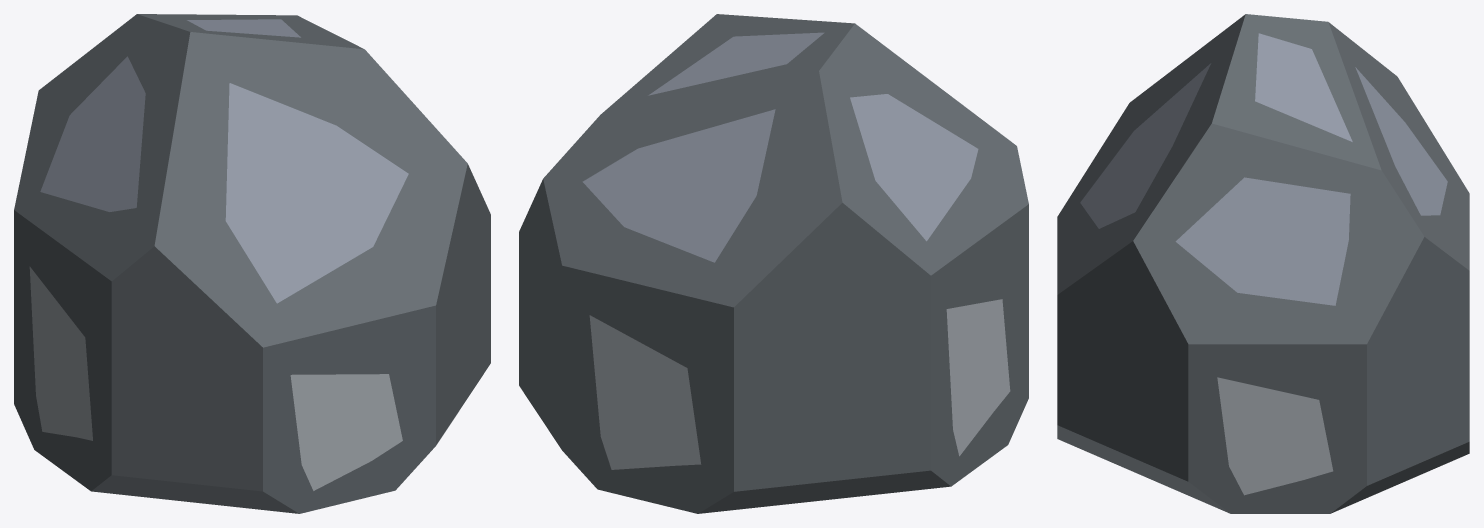
File: silver_ore.glb
The picture shows the model from 3 angles, left to right: view 1: azimuth 30°, elevation 25°; view 2: azimuth 150°, elevation 25°; view 3: azimuth 270°, elevation 25°; orthographic projection. The views are drawn at different scales.
Visible parts, largest first — view 1: silver_ore; view 2: silver_ore; view 3: silver_ore.
Boxes of the visible parts, bbox=[...] form: silver_ore: bbox=[14, 14, 490, 513]; silver_ore: bbox=[519, 14, 1028, 513]; silver_ore: bbox=[1057, 14, 1469, 513].
Bounding box in the file's own units: 0.87 × 0.86 × 0.85.
